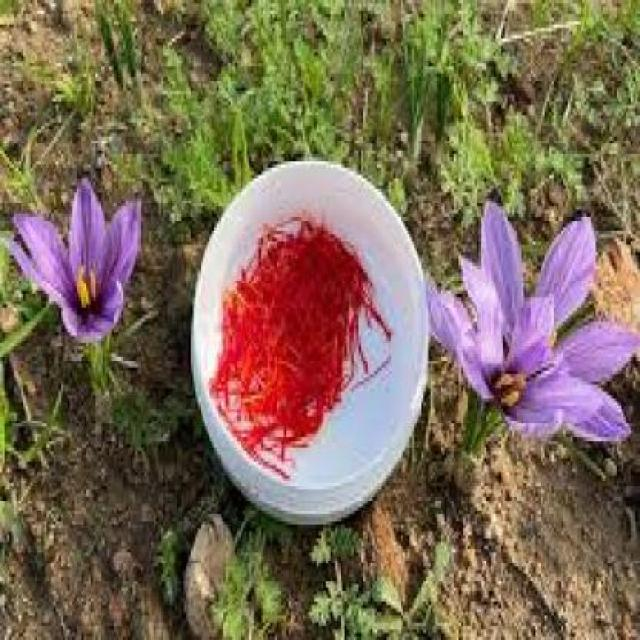saffron open: (426, 203, 639, 441), (13, 180, 140, 340)
